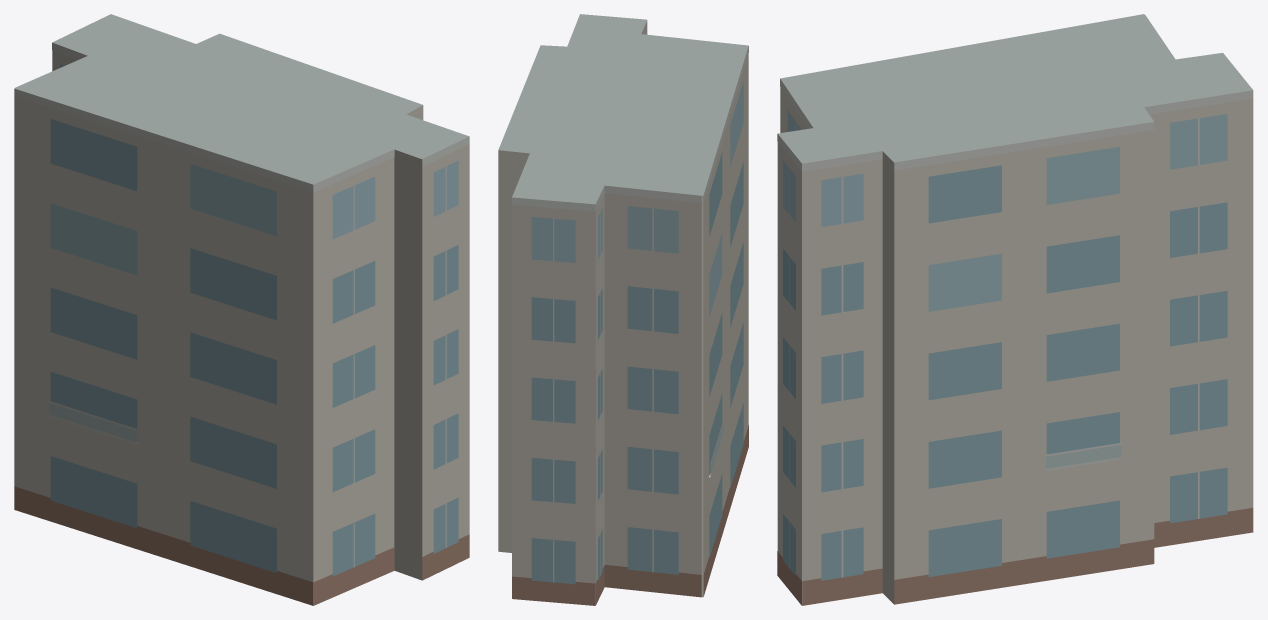
The model's file is survey-upis-32749603.glb.
3 views of the same model, side by side, from view 1: azimuth 30°, elevation 25°; view 2: azimuth 150°, elevation 25°; view 3: azimuth 270°, elevation 25° (orthographic). The views are drawn at different scales.
Parts seen in each view (by area): view 1: survey-upis-32749603.tmp; view 2: survey-upis-32749603.tmp; view 3: survey-upis-32749603.tmp.
Part boxes in pixels (x1,y1,x2,y2): survey-upis-32749603.tmp: (14,14,469,605); survey-upis-32749603.tmp: (498,14,748,605); survey-upis-32749603.tmp: (777,14,1253,605).
Bounding box in the file's own units: 9.67 × 13.3 × 12.98.
